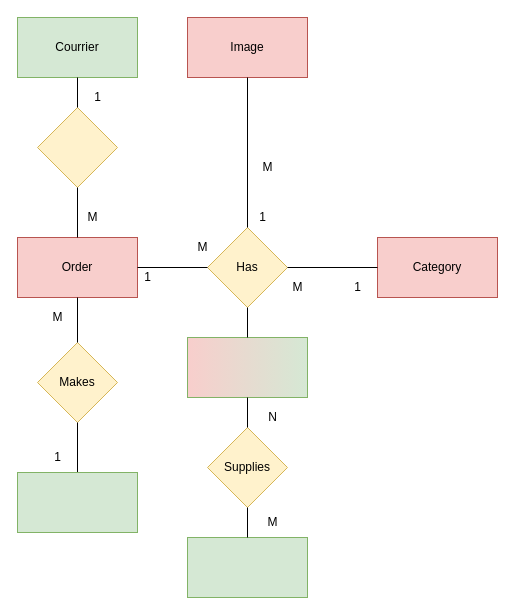
This 515x615 diagram has some shape labels left out. Each missing label, with the centre of its shape:
"Delivers" belongs at pixel 77 147.
"Product" belongs at pixel 247 367.
"Supplier" belongs at pixel 247 567.
"User" belongs at pixel 77 502.
